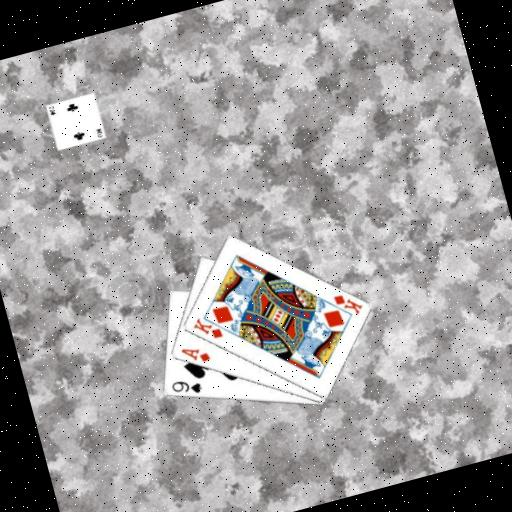9S: (167, 372, 205, 400)
AD: (177, 339, 212, 369)
KD: (188, 310, 225, 346), (329, 286, 366, 321)
